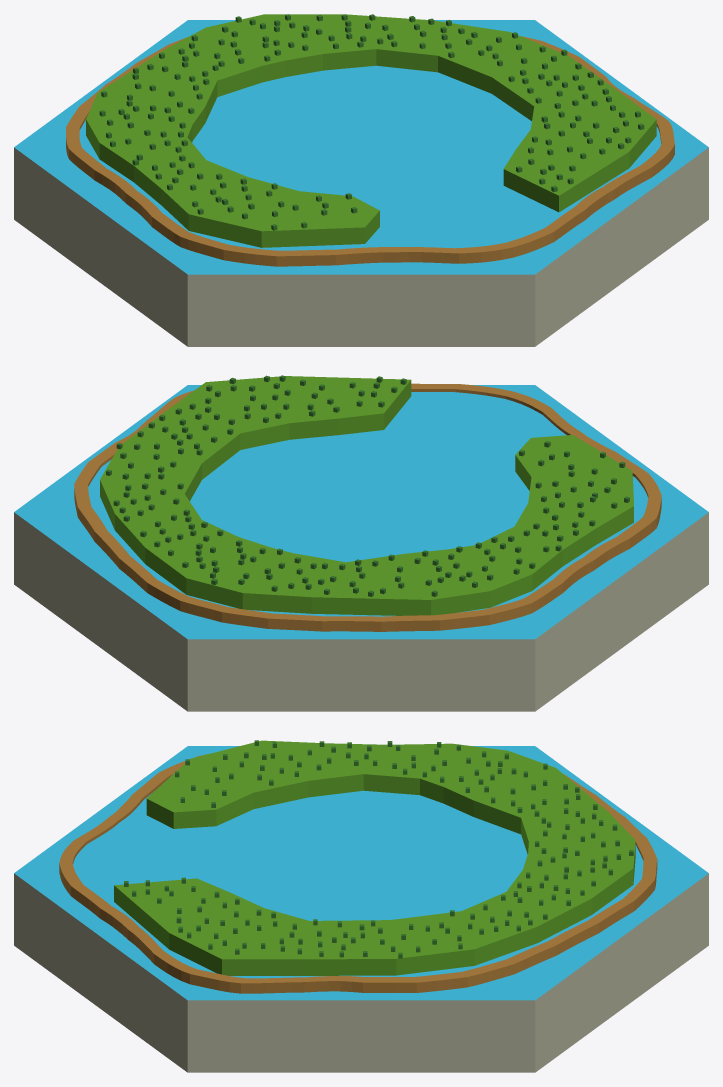
File: Tuile_Eau_Champs_Niv2.fbx
The picture shows the model from 3 angles, top to bottom: view 1: azimuth 30°, elevation 25°; view 2: azimuth 150°, elevation 25°; view 3: azimuth 270°, elevation 25°; orthographic projection.
Parts seen in each view (by area): view 1: Tuile, Level 2, Eau, Bord; view 2: Tuile, Level 2, Eau, Bord; view 3: Tuile, Level 2, Eau, Bord.
Part boxes in pixels (x1,y1,x2,y2): Tuile: [14, 20, 708, 346]; Level 2: [86, 14, 656, 247]; Eau: [79, 65, 661, 250]; Bord: [66, 36, 674, 266]; Tuile: [14, 385, 708, 711]; Level 2: [100, 375, 633, 615]; Eau: [88, 392, 647, 616]; Bord: [74, 383, 661, 631]; Tuile: [14, 746, 708, 1072]; Level 2: [114, 740, 635, 975]; Eau: [73, 790, 643, 978]; Bord: [59, 754, 657, 993].
Bounding box in the file's own units: 107 × 19.73 × 124.
